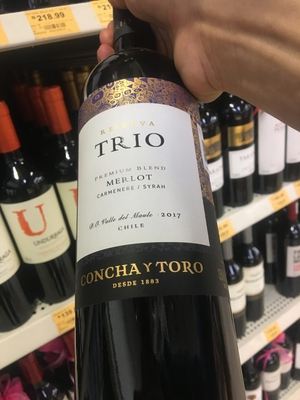trio merlot: (62, 30, 226, 400)
